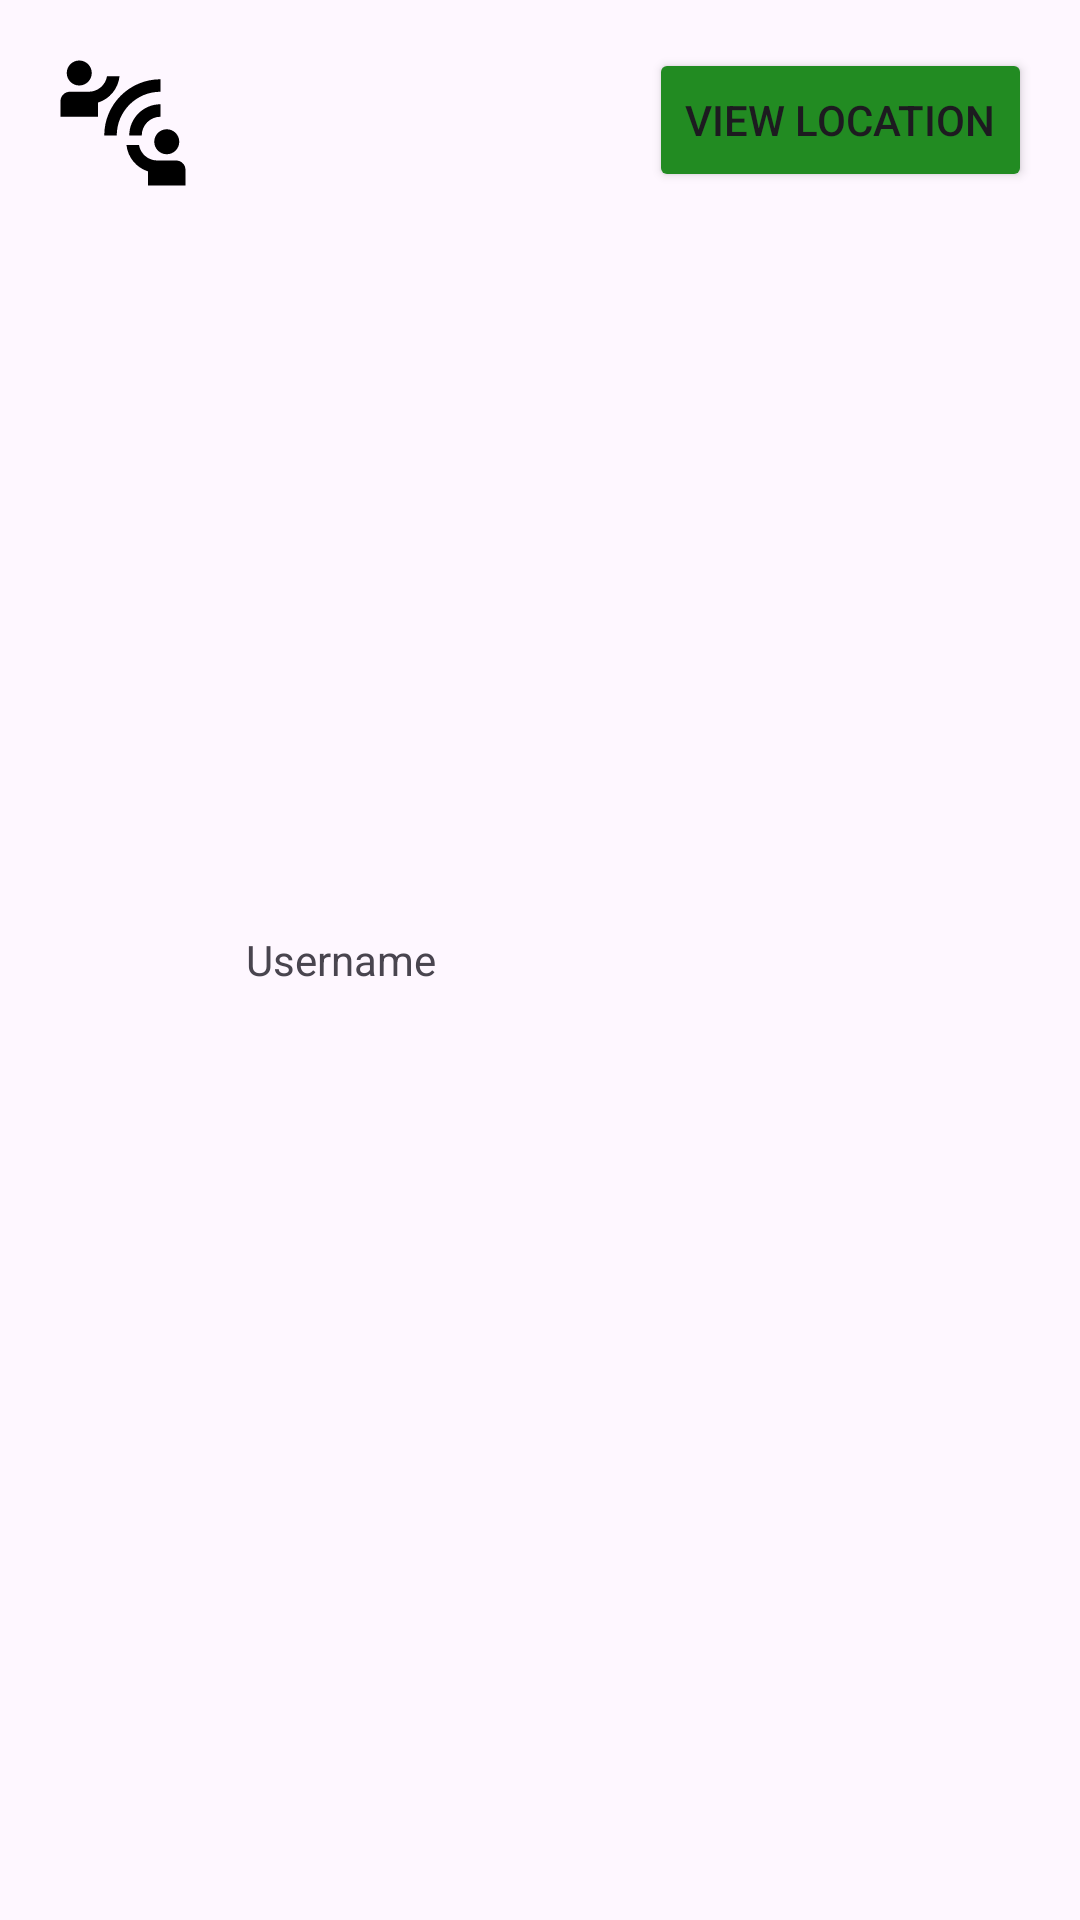

Named icons in this screenshot (1080 x 1920) and their centers, point (x, y):
connect: point (123, 123)
